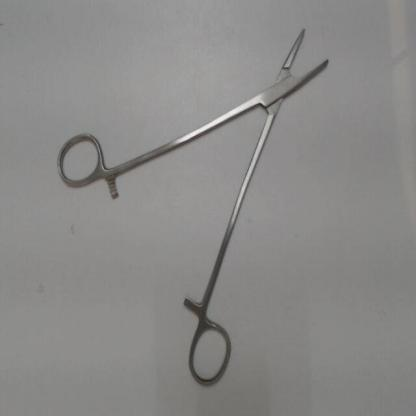8 Mayo Needle Holder: (50, 14, 346, 393)
